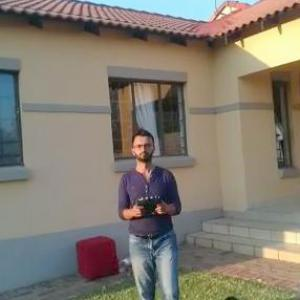follow: (113, 125, 187, 299)
